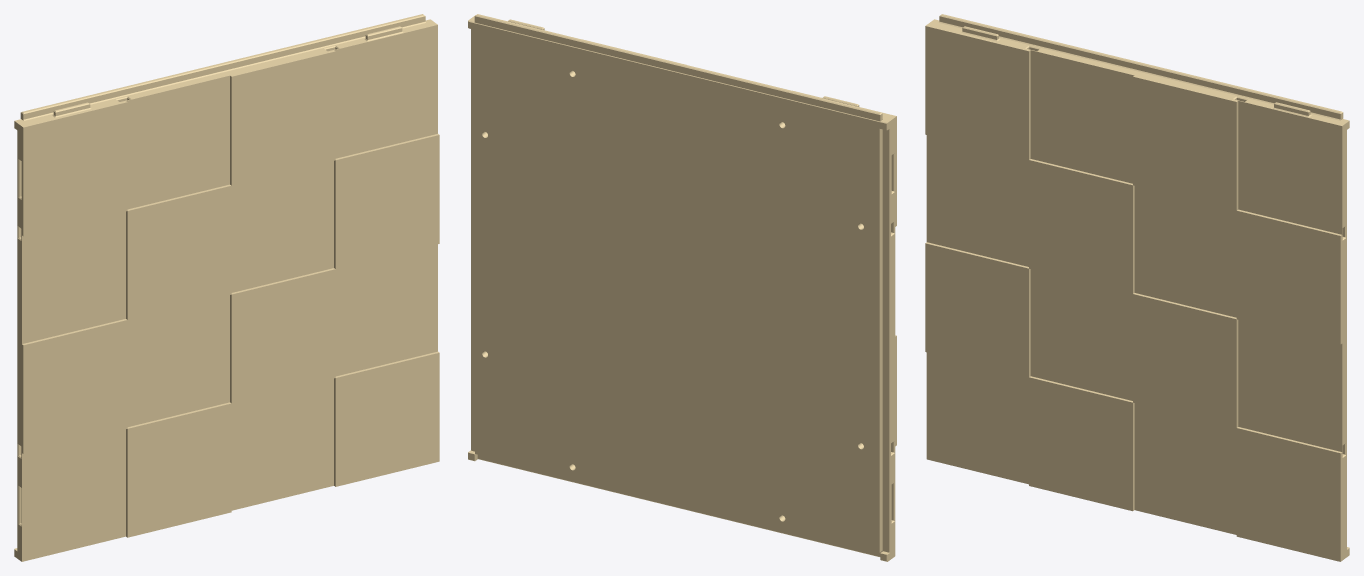
The model's file is .quarter_se_light_body.step.glb.
The picture shows the model from 3 angles, left to right: view 1: azimuth 30°, elevation 25°; view 2: azimuth 150°, elevation 25°; view 3: azimuth 330°, elevation 25°; orthographic projection.
Parts seen in each view (by area): view 1: o1; view 2: o1; view 3: o1.
Part boxes in pixels (x1,y1,x2,y2): o1: (14,14,439,561); o1: (468,14,896,561); o1: (925,14,1349,561).
Bounding box in the file's own units: 0.24 × 0.244 × 0.0096.
